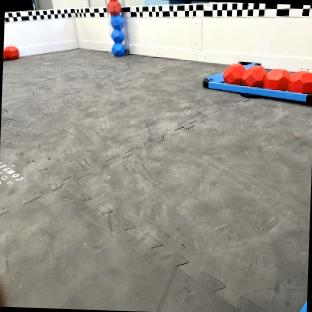V5_BLUE: (110, 14, 125, 55)
V5_RED: (223, 63, 312, 94), (3, 46, 19, 59), (107, 0, 121, 14)
